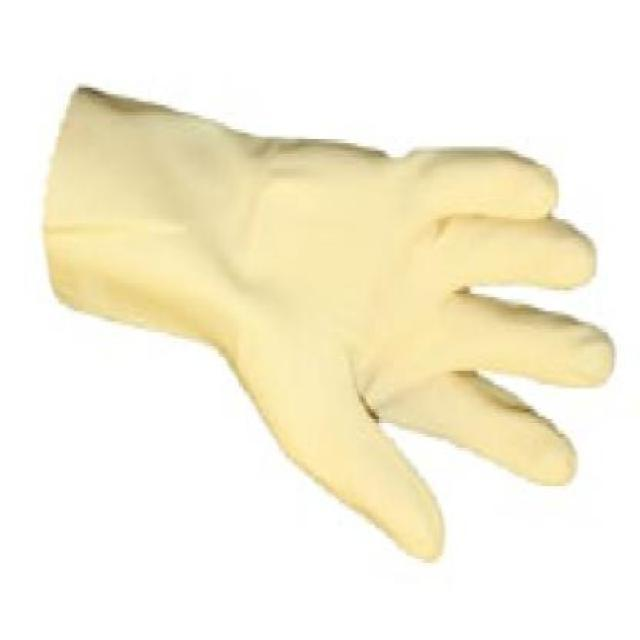gloved_hand: (40, 76, 622, 559)
